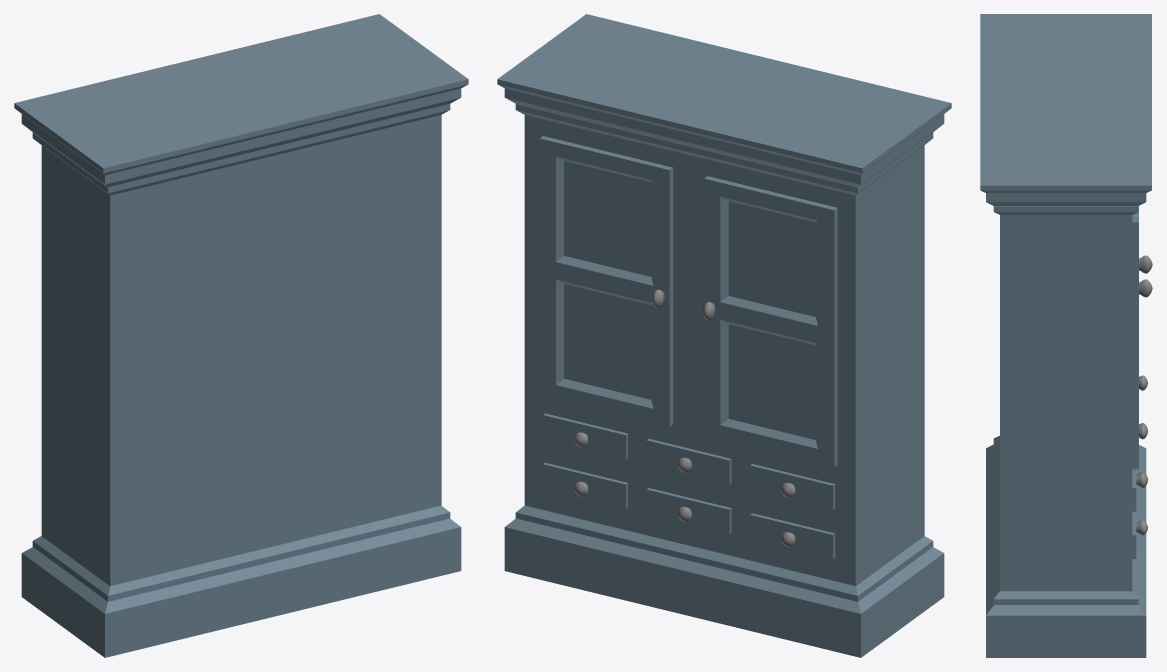
The model's file is Armoire1_4.fbx.
The picture shows the model from 3 angles, left to right: view 1: azimuth 30°, elevation 25°; view 2: azimuth 150°, elevation 25°; view 3: azimuth 270°, elevation 25°; orthographic projection. The views are drawn at different scales.
Visible parts, largest first — view 1: pCube2399, pCube2398, pCube2402, pCube2401, pCube2400, pCube2397; view 2: pCube2399, pCube2398, pCube2422, pCube2425, pCube2402, pCube2401, pCube2400, pCube2397, pCube2417, pCube2415, pCube2418, pCube2416 (+2 smaller); view 3: pCube2399, pCube2398, pCube2402, pCube2401, pCube2400, pCube2422, pCube2397.
Boxes of the visible parts, <box> form: pCube2399: <box>41,115,441,586</box>; pCube2398: <box>14,14,468,174</box>; pCube2402: <box>21,518,461,657</box>; pCube2401: <box>32,505,450,601</box>; pCube2400: <box>21,88,461,187</box>; pCube2397: <box>32,104,450,195</box>; pCube2399: <box>524,115,924,586</box>; pCube2398: <box>497,14,951,174</box>; pCube2422: <box>539,136,673,426</box>; pCube2425: <box>704,176,837,466</box>; pCube2402: <box>504,518,944,657</box>; pCube2401: <box>515,505,933,601</box>; pCube2400: <box>504,88,944,187</box>; pCube2397: <box>515,104,933,195</box>; pCube2417: <box>750,513,835,559</box>; pCube2415: <box>646,438,731,484</box>; pCube2418: <box>646,488,731,534</box>; pCube2416: <box>750,464,835,510</box>; pCube2399: <box>1000,215,1132,591</box>; pCube2398: <box>980,14,1151,192</box>; pCube2402: <box>986,444,1146,657</box>; pCube2401: <box>993,435,1138,604</box>; pCube2400: <box>986,193,1146,205</box>; pCube2422: <box>1132,206,1138,469</box>; pCube2397: <box>993,206,1138,214</box>.
Bounding box in the file's own units: 91.15 × 118 × 38.72.
